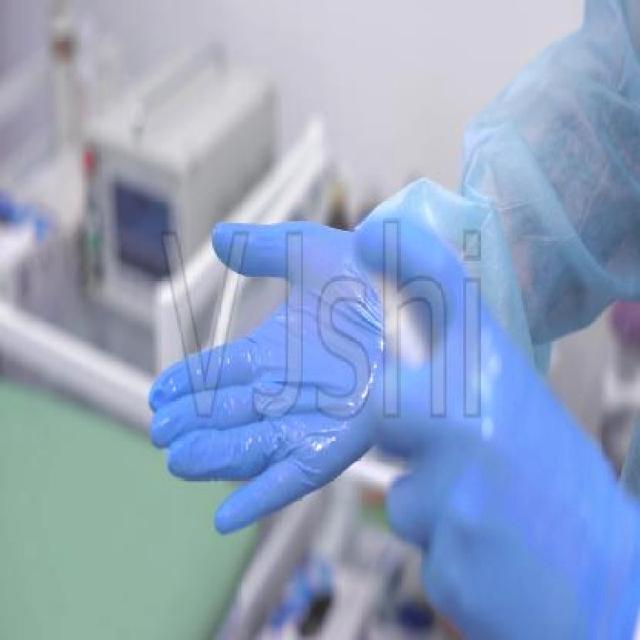hand_glove: (353, 218, 612, 640), (146, 218, 391, 540)
